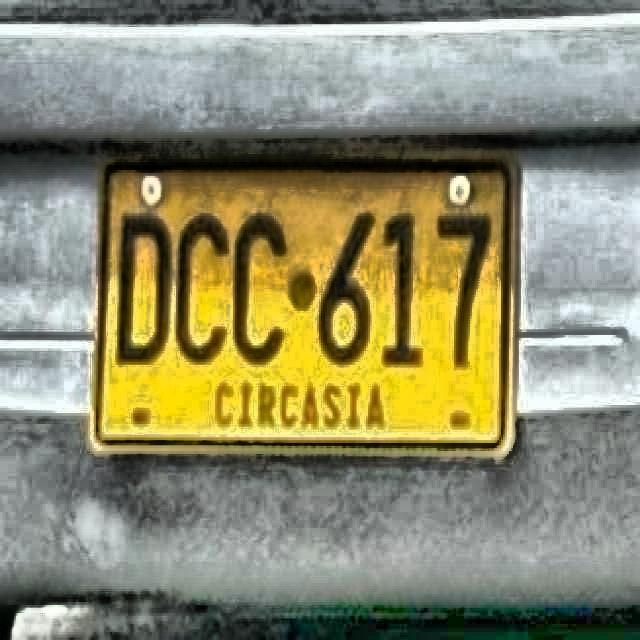plate: (97, 164, 510, 444)
